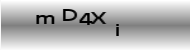4: (79, 12, 93, 27)
D: (61, 8, 78, 22)
X: (91, 11, 107, 25)
i: (113, 22, 120, 36)
m: (35, 14, 55, 25)
